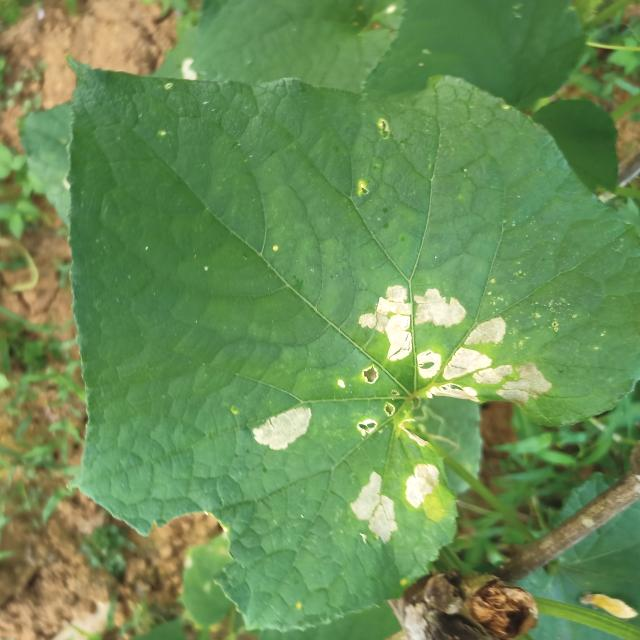disease_cucumber: (354, 285, 554, 406), (348, 469, 400, 544), (247, 400, 315, 456), (402, 460, 441, 510), (352, 400, 396, 439)
